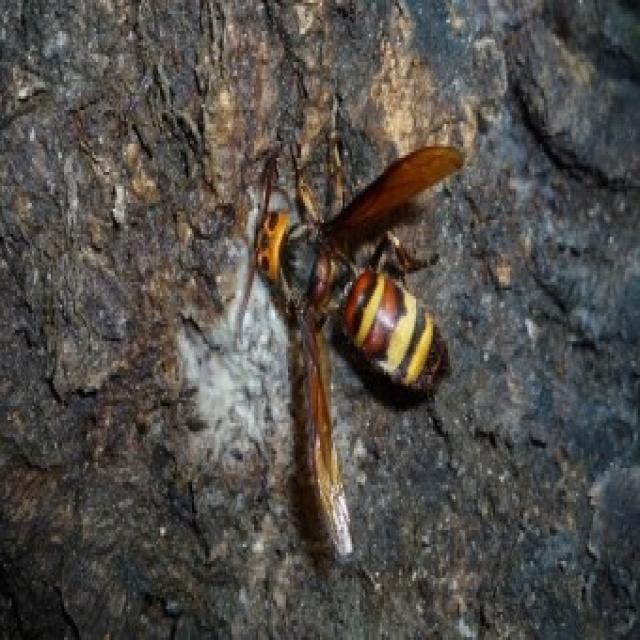Wasp: (244, 129, 456, 563)
